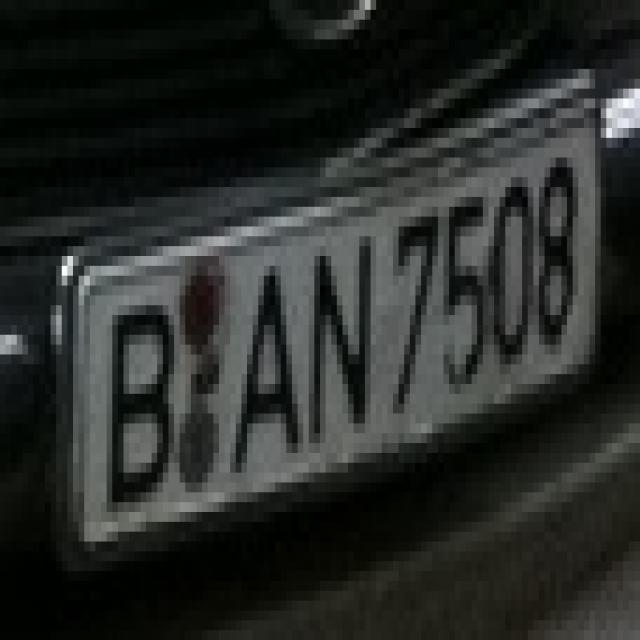licenseplate: (67, 127, 602, 511)
